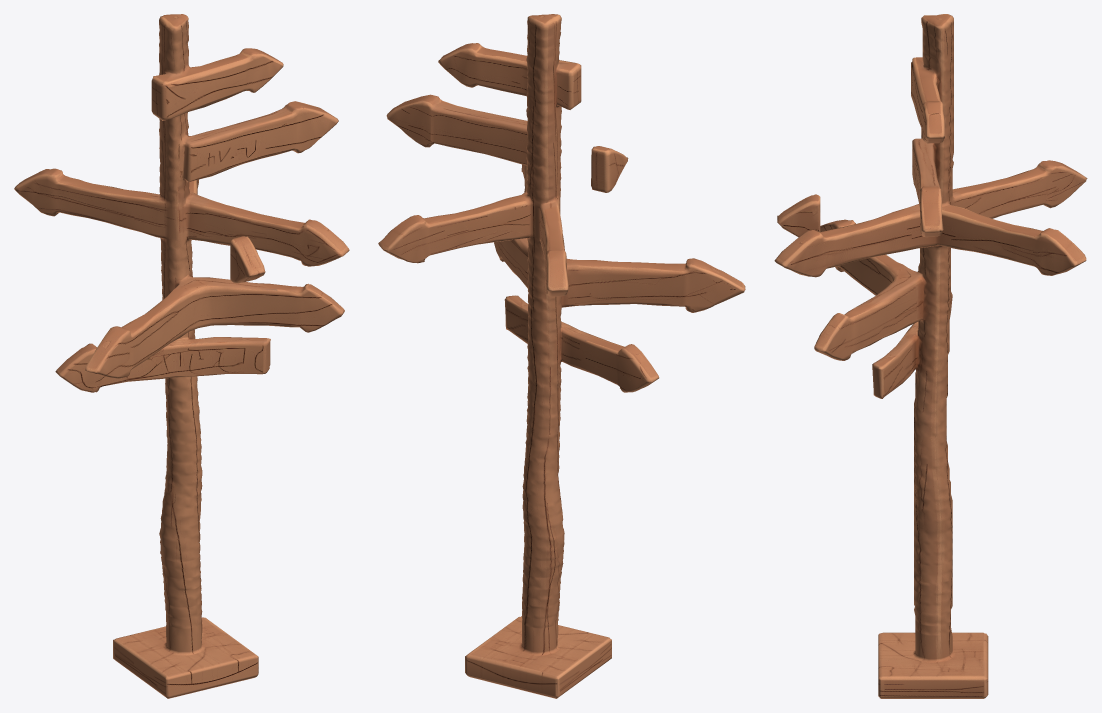
File: board_grim_signpost.glb
3 views of the same model, side by side, from view 1: azimuth 30°, elevation 25°; view 2: azimuth 150°, elevation 25°; view 3: azimuth 270°, elevation 25° (orthographic).
Bounding box in the file's own units: 0.9198 × 1.91 × 0.8258.
Materials: 1 (1 with a texture image).
